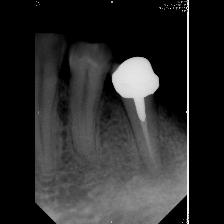apical_lesion: (112, 58, 177, 192)
